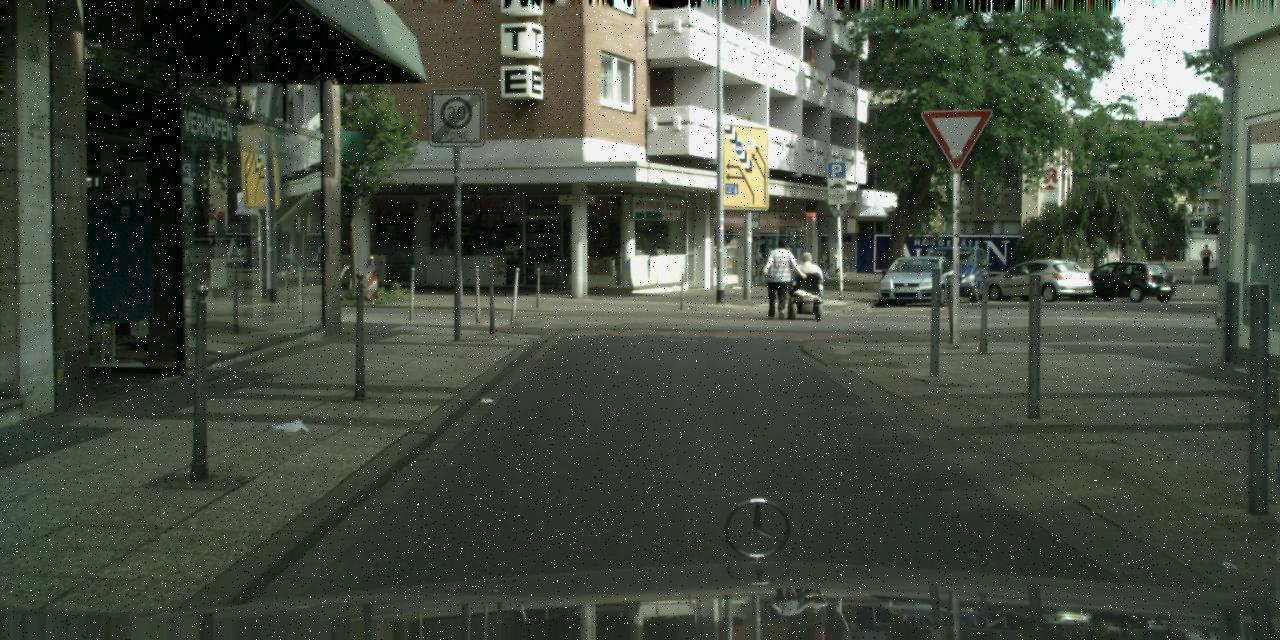ped: (763, 238, 796, 318), (1199, 244, 1212, 275)
